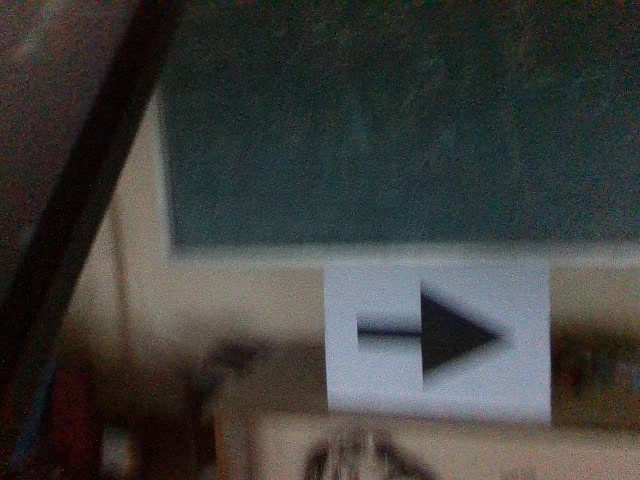Right: (343, 274, 523, 393)
